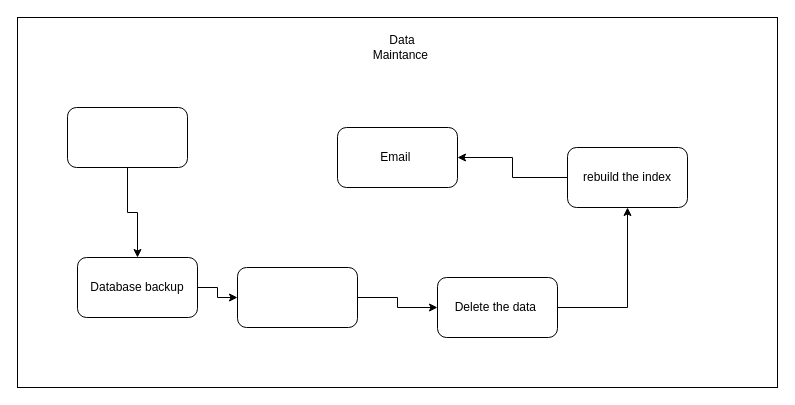
Image size: 795x405. Some labels were removed from this diagram. The shapes that lost their labels are listed below. From the top down, each one's centre as x and y in pixels, then its label:
the point at 127,137: validate the data
the point at 297,297: drop the index
